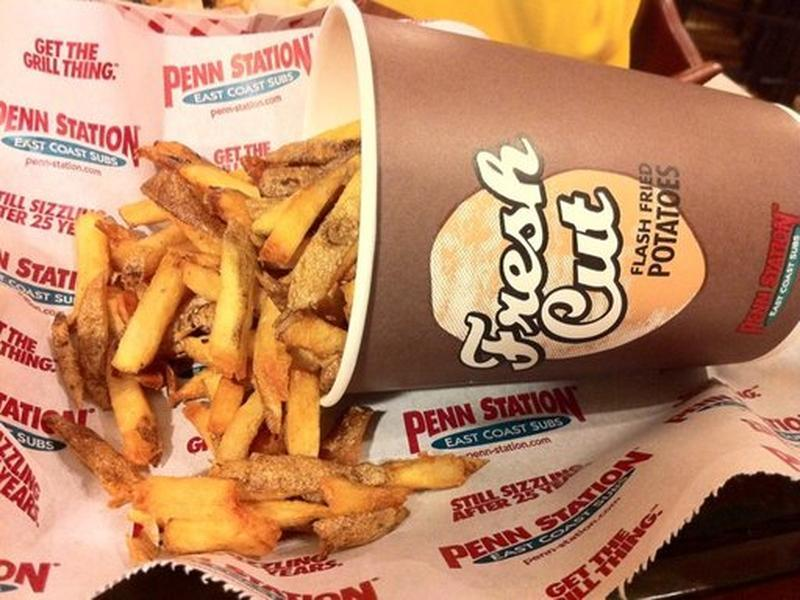french_fries: (78, 85, 451, 588)
